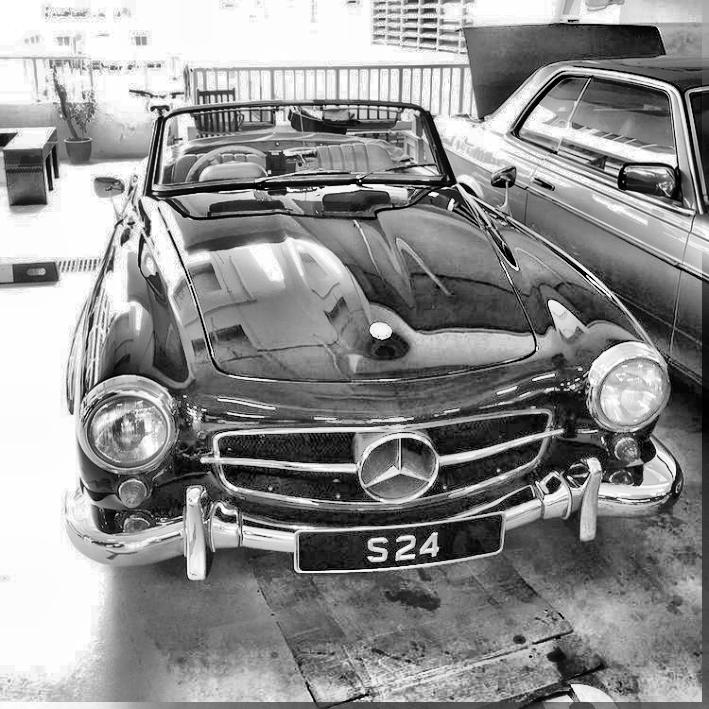License-Plates: (299, 514, 502, 570)
